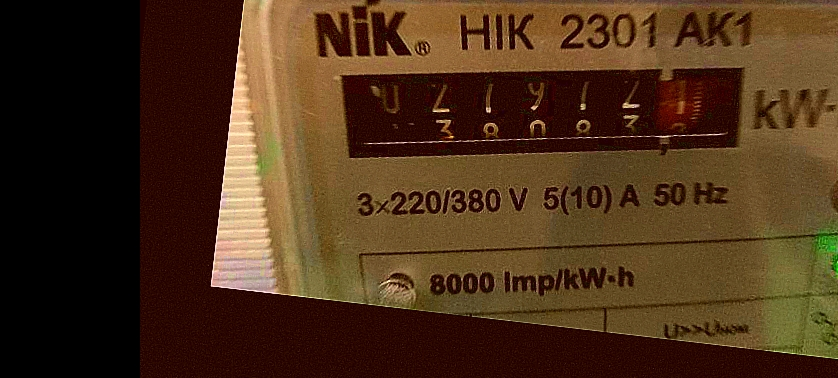0: (375, 77, 407, 116)
1: (669, 74, 696, 119)
2: (424, 73, 457, 115), (616, 71, 648, 111)
7: (568, 71, 599, 115), (474, 76, 501, 115)
9: (522, 74, 552, 112)
screen: (314, 10, 781, 215)
